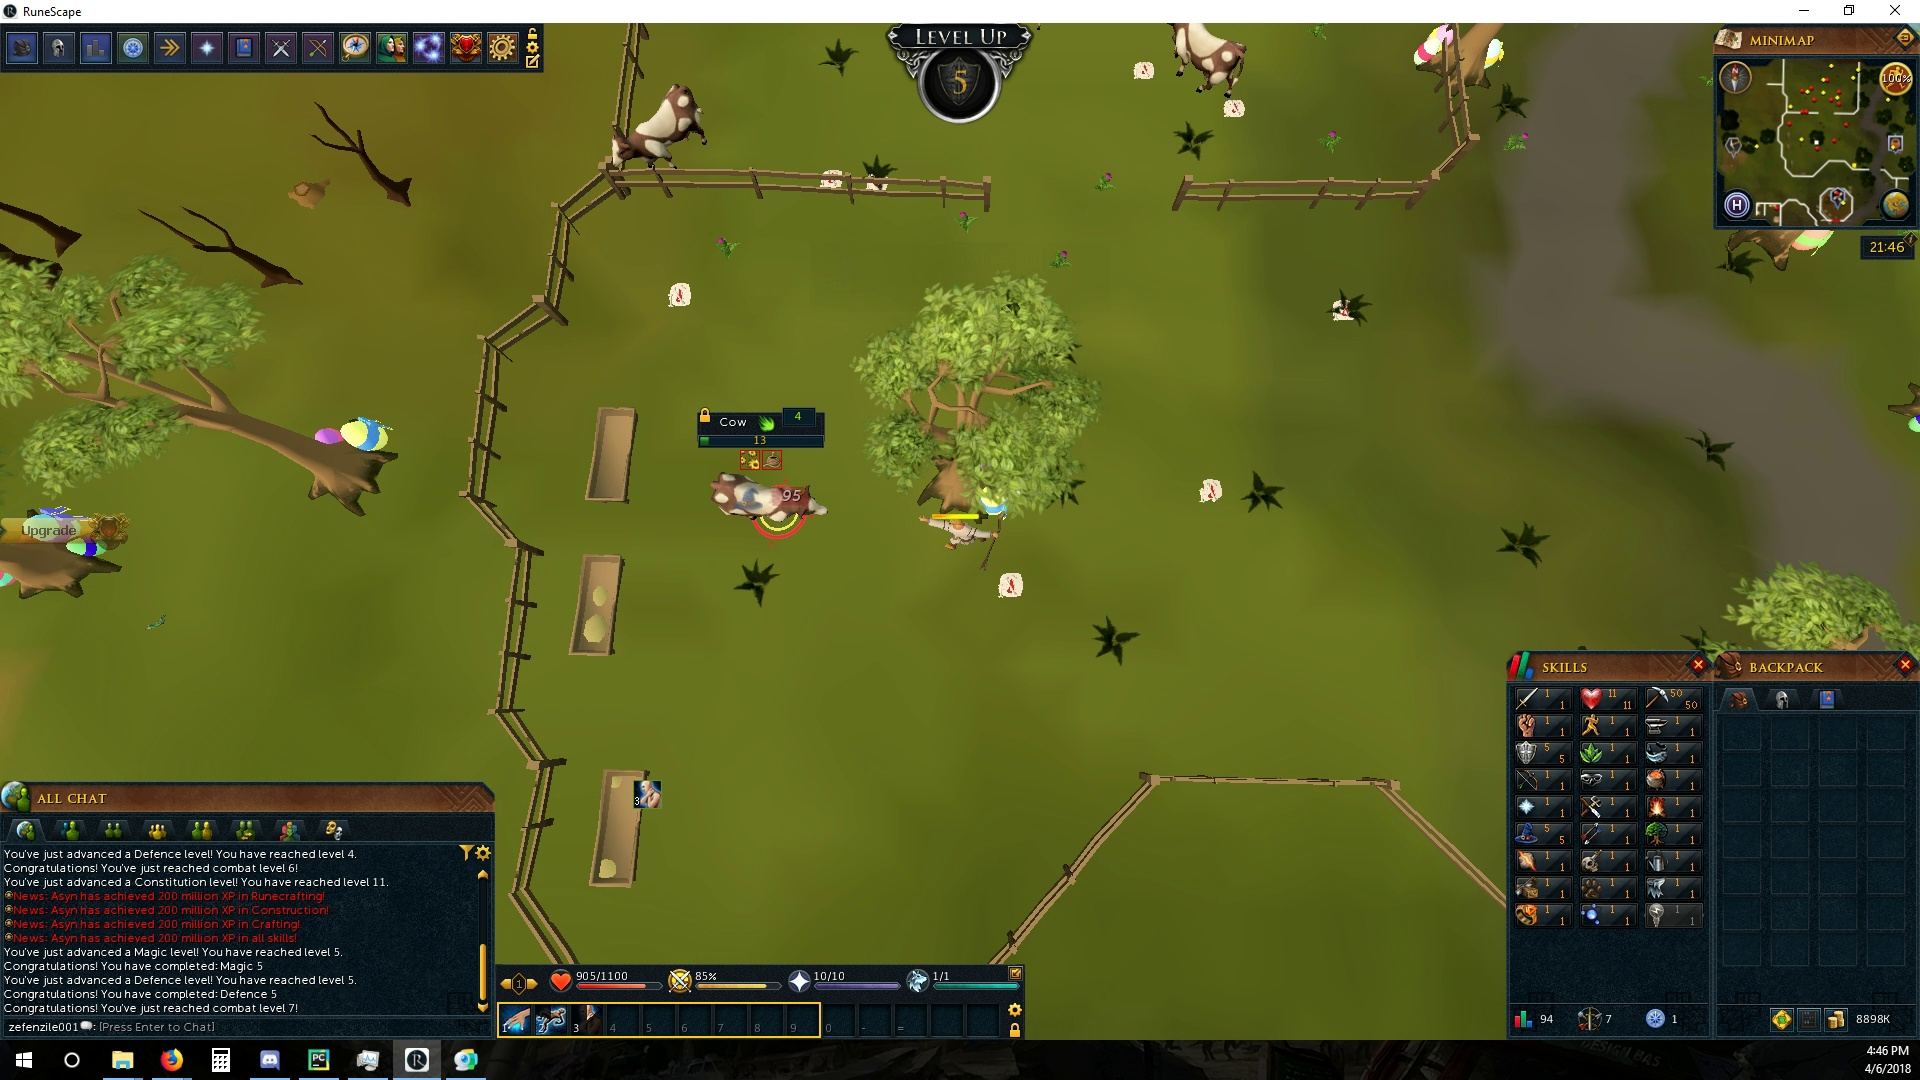cow: (605, 84, 711, 171), (707, 469, 836, 531), (1163, 22, 1250, 100)
cow_drop: (663, 276, 696, 309), (996, 566, 1027, 600), (1197, 475, 1226, 506), (1328, 298, 1364, 323), (1127, 55, 1158, 84), (816, 165, 851, 189), (1218, 96, 1247, 116)
